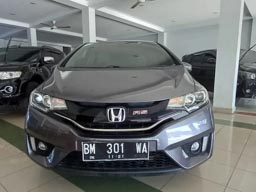plat: (81, 141, 148, 154)
